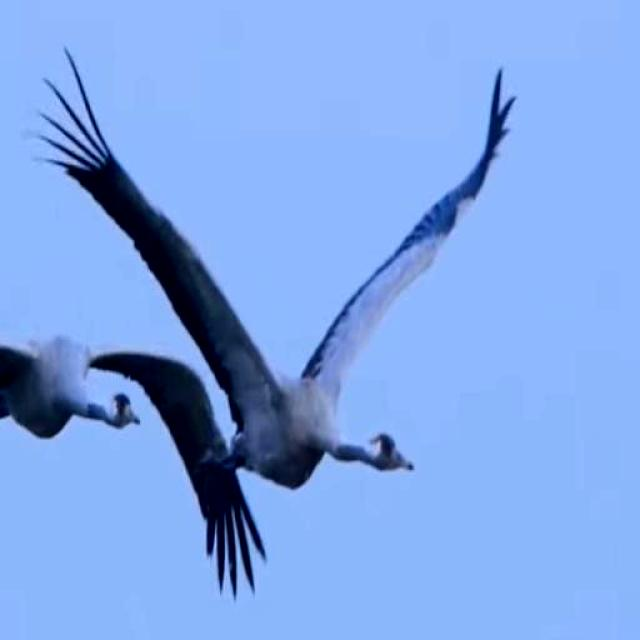airplane: (39, 54, 524, 494), (0, 330, 258, 602)
